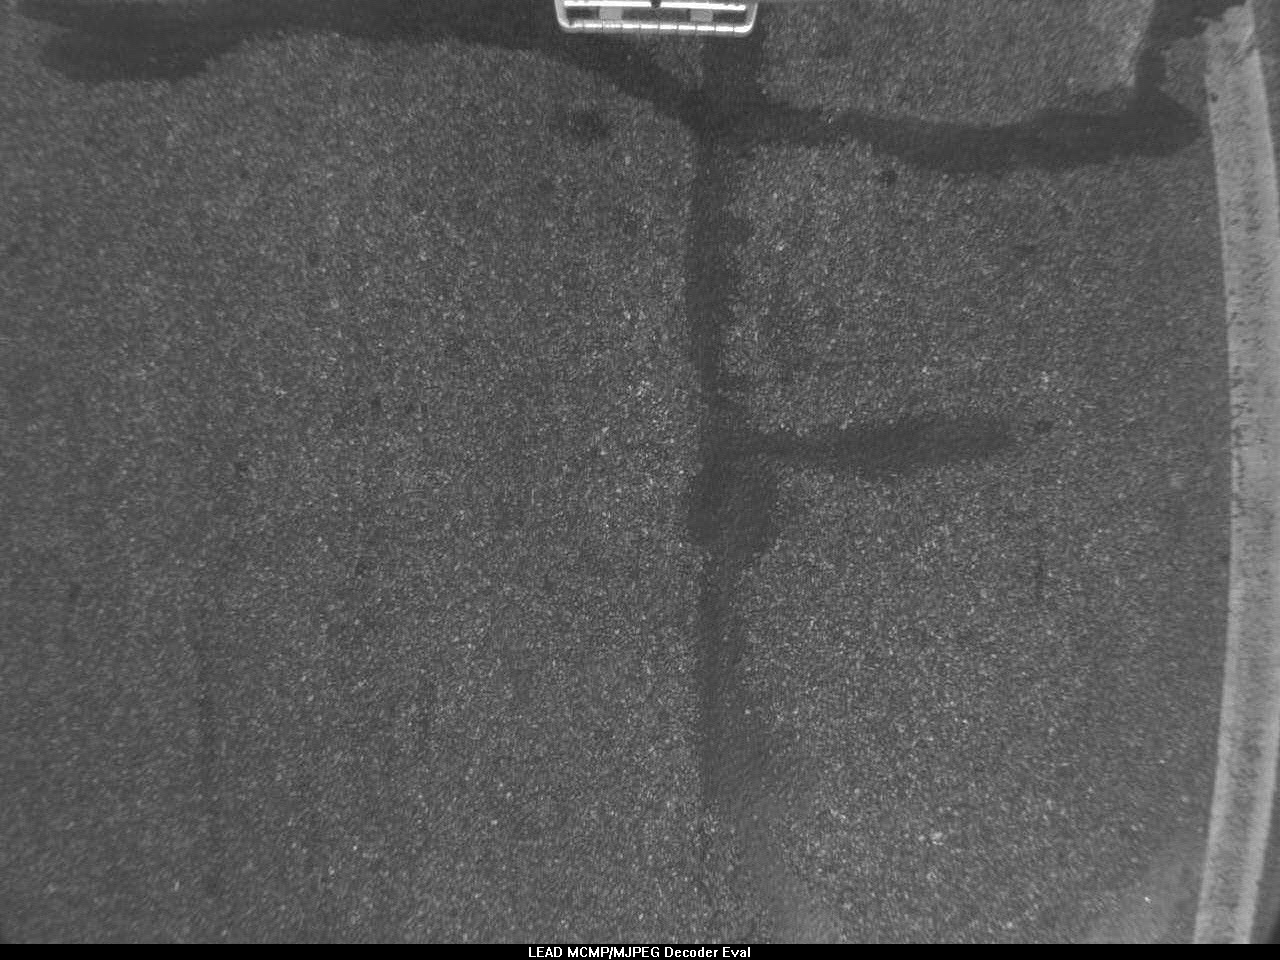sealed: (662, 126, 766, 797)
